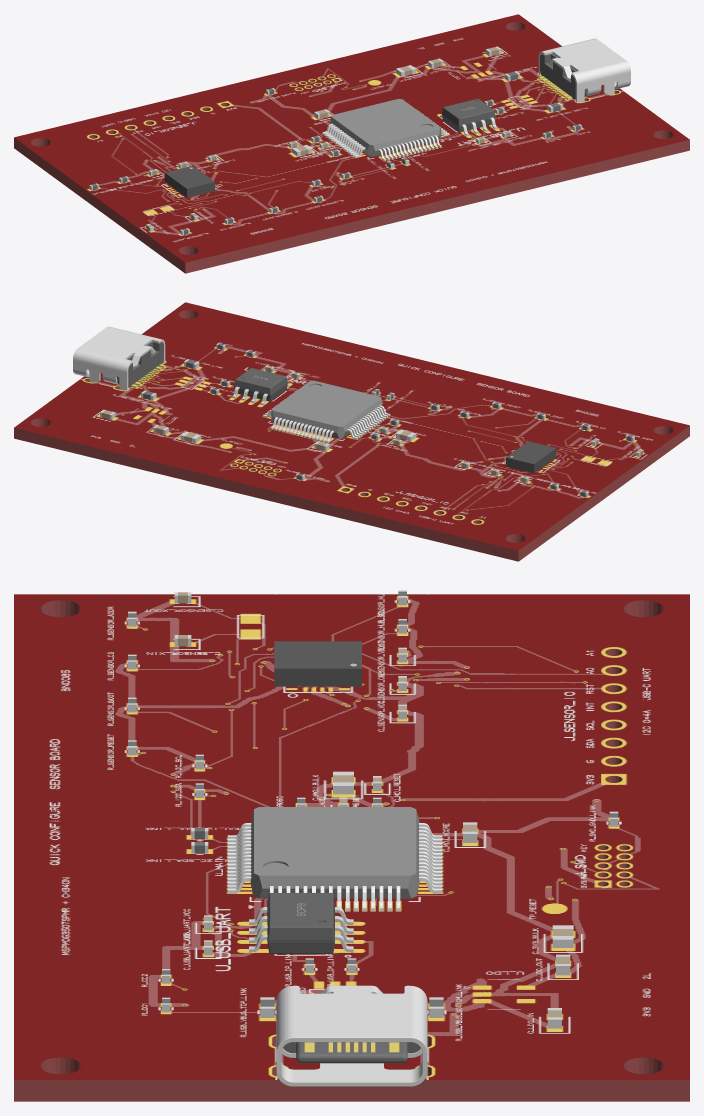
The picture shows the model from 3 angles, top to bottom: view 1: azimuth 30°, elevation 25°; view 2: azimuth 150°, elevation 25°; view 3: azimuth 270°, elevation 25°; orthographic projection. The views are drawn at different scales.
Visible parts, largest first — view 1: Box0, U_MAIN, J_USB, U_USB_UART, U_SENSOR; view 2: Box0, U_MAIN, J_USB, U_USB_UART, U_SENSOR; view 3: Box0, U_MAIN, J_USB, U_USB_UART, U_SENSOR.
Boxes of the visible parts, <box> form: Box0: <box>14,14,689,273</box>; U_MAIN: <box>322,99,449,161</box>; J_USB: <box>538,38,630,102</box>; U_USB_UART: <box>440,98,497,135</box>; U_SENSOR: <box>164,165,214,197</box>; Box0: <box>14,302,689,561</box>; U_MAIN: <box>263,380,390,442</box>; J_USB: <box>73,326,165,390</box>; U_USB_UART: <box>232,368,289,404</box>; U_SENSOR: <box>506,441,556,473</box>; Box0: <box>14,594,689,1101</box>; U_MAIN: <box>227,807,442,911</box>; J_USB: <box>276,985,427,1086</box>; U_USB_UART: <box>249,893,353,953</box>; U_SENSOR: <box>274,641,361,686</box>.
Bounding box in the file's own units: 69.04 × 4.65 × 40.
Materials: 19 (2 with a texture image).
